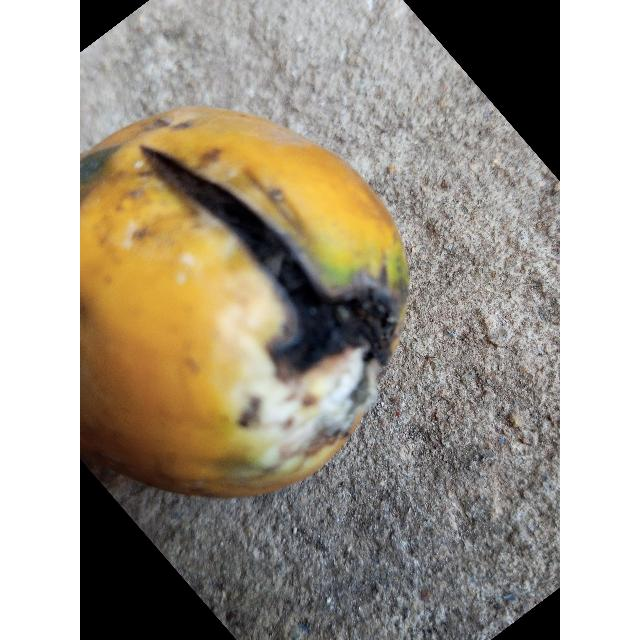damaged: (80, 105, 410, 502)
